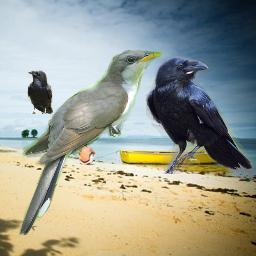Crow: (146, 56, 255, 174), (27, 70, 53, 114)
Cuckoo: (19, 50, 162, 235)
